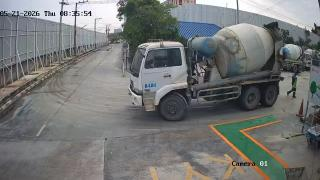cement_mixer_truck: (127, 21, 284, 120), (283, 44, 303, 72), (303, 50, 314, 72), (306, 44, 320, 58)
